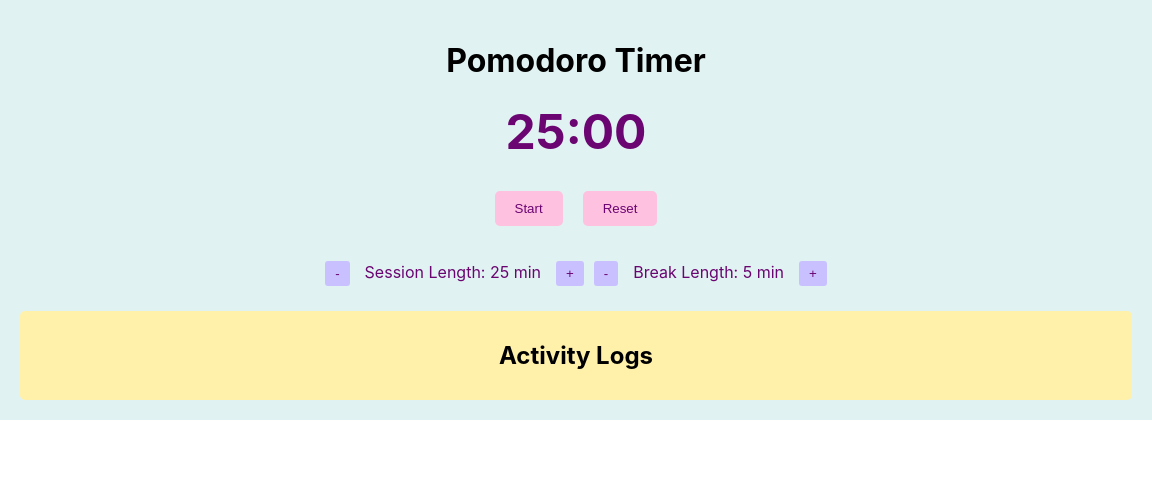
Test: <App /> tests › starts the timer and logs the activity when "Start" is clicked
The width and height of the screenshot is (1152, 483).
Click the button "Start": (529, 208) [494,191,563,226]
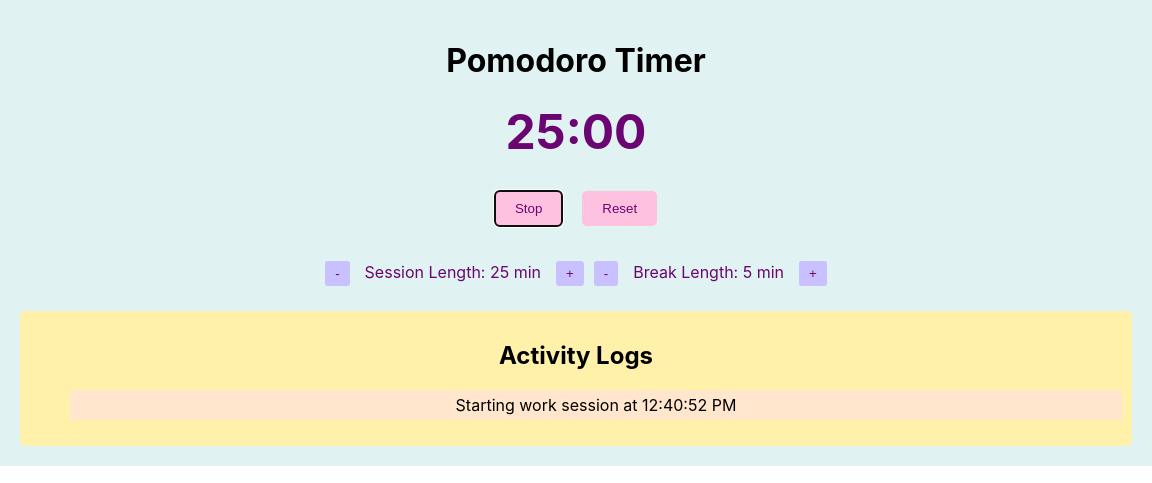
expect the button "Stop" is shown: met, box [495,191,562,226]
expect the list item "Starting work session at 12:40:52 PM" is shown: met, box [70,390,1122,420]
